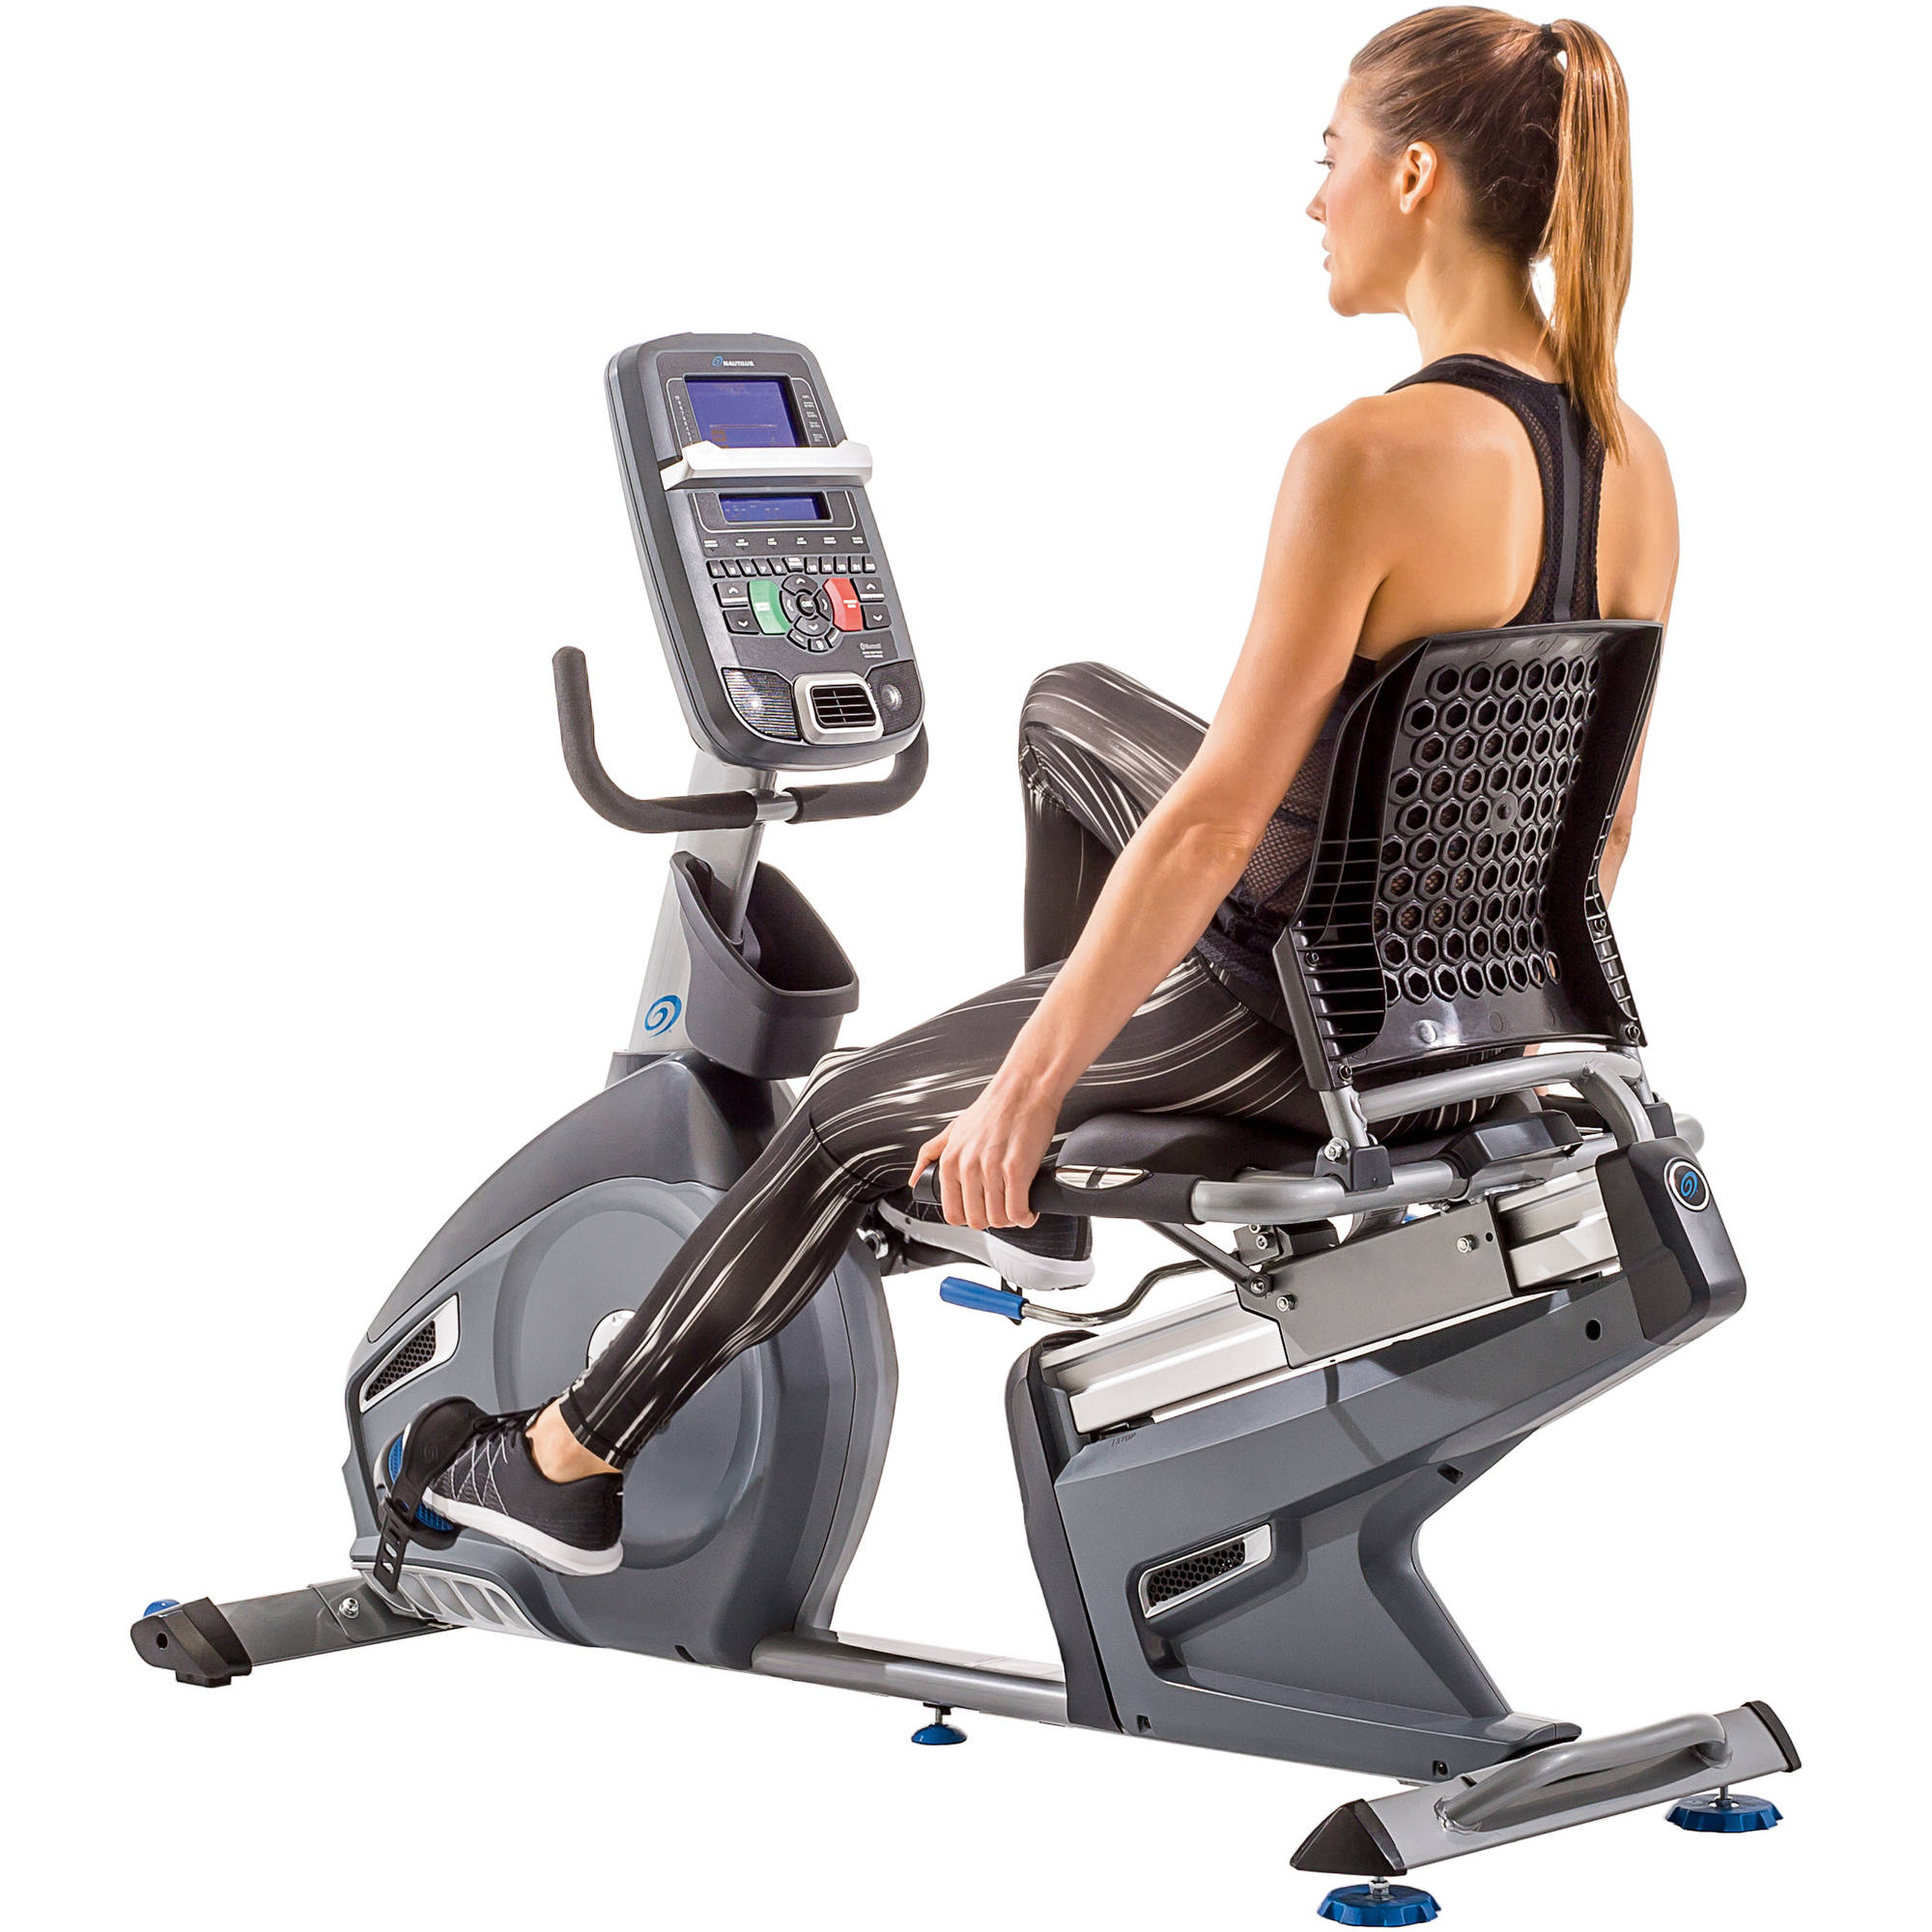gym_bike: (119, 292, 1803, 1916)
